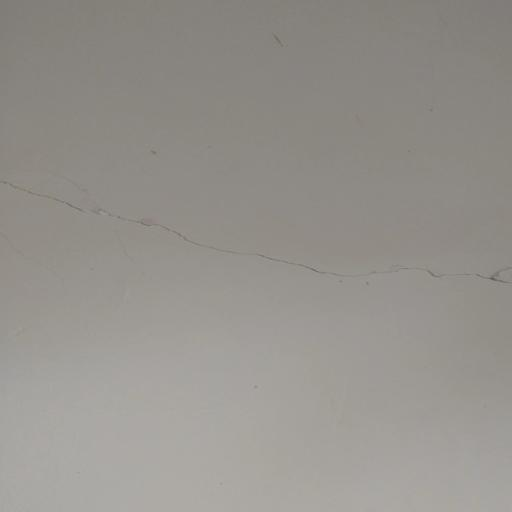minor_crack: (2, 166, 512, 329)
